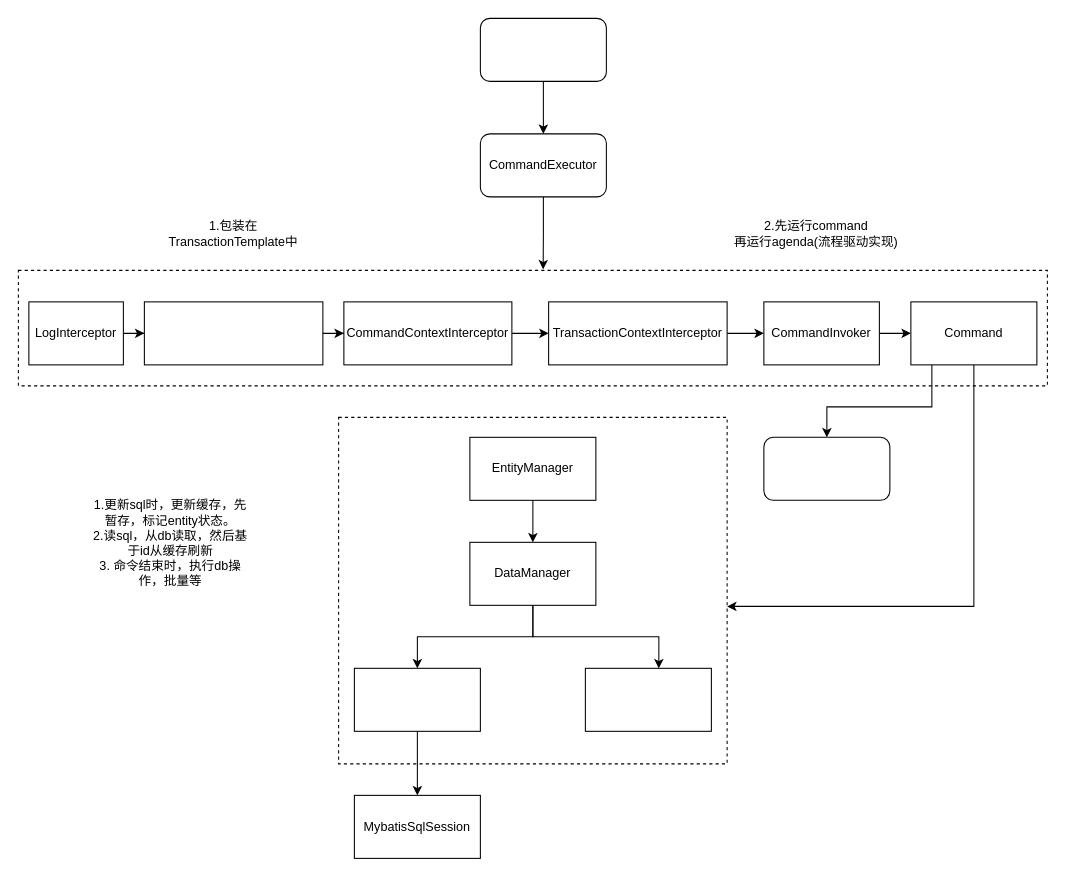
Image size: 1066x877. Some labels were removed from this diagram. Here are the shapes that lost their labels. From the top down, the centre of each, then its label:
the point at 542,49: Service
the point at 233,333: SpringTransactionInterceptor
the point at 826,468: CommandContext
the point at 416,699: DbSqlSession
the point at 647,699: EntityCache
